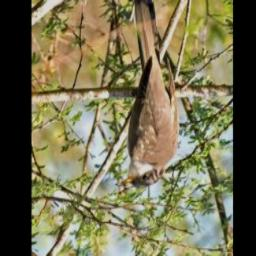Cuckoo: (116, 0, 180, 189)
